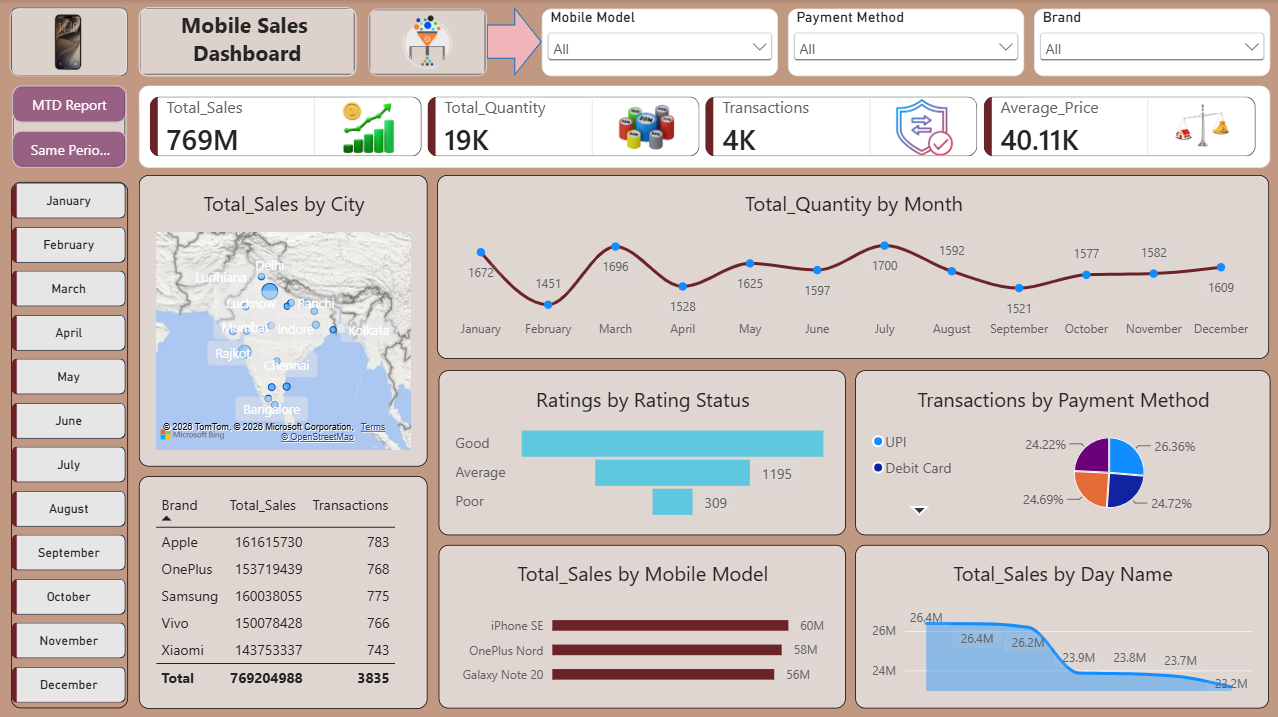

What the dashboard file says about the page in this screenshot:
{"tool":"powerbi","page":{"name":"Dashboard","canvas":[1280,720],"ordinal":0},"visuals":[{"type":"shape","box":[11,8.3,116.9,68.8],"z":0},{"type":"image","box":[9.6,9.6,116.9,67.4],"z":1000},{"type":"shape","box":[12.4,86.6,114.1,82.5],"z":2000},{"type":"cardVisual","fields":{"Data":["Mobile_Sales_Data.Total_Sales","Mobile_Sales_Data.Total_Quantity","Mobile_Sales_Data.Transactions","Mobile_Sales_Data.Average_Price"]},"box":[138.9,86.6,1131.9,82.5],"z":4000},{"type":"slicer","fields":{"Values":["Mobile_Sales_Data.Mobile Model"]},"box":[541.9,9.6,236.5,67.4],"z":5000},{"type":"slicer","fields":{"Values":["Mobile_Sales_Data.Payment Method"]},"box":[788,9.6,236.5,67.4],"z":6000},{"type":"slicer","fields":{"Values":["Mobile_Sales_Data.Brand"]},"box":[1034.2,9.6,236.5,67.4],"z":7000},{"type":"shape","box":[368.6,9.6,118.3,67.4],"z":8000},{"type":"shape","box":[486.8,8.3,55,68.8],"z":9000},{"type":"image","box":[368.6,16.5,118.3,53.6],"z":10000},{"type":"shape","box":[138.9,8.3,217.3,68.8],"z":11000},{"type":"textbox","box":[138.9,9.6,217.3,67.4],"z":12000},{"type":"map","fields":{"Category":["Mobile_Sales_Data.City"],"Size":["Mobile_Sales_Data.Total_Sales"]},"box":[138.9,176,288.8,291.6],"z":13000},{"type":"lineChart","fields":{"Category":["Custom_Calendar.Date.Variation.Date Hierarchy.Month"],"Y":["Mobile_Sales_Data.Total_Quantity"]},"box":[437.3,176,832,184.3],"z":14000},{"type":"funnel","title":"Ratings by Rating Status","fields":{"Category":["Mobile_Sales_Data.Rating Status"],"Y":["CountNonNull(Mobile_Sales_Data.Customer Ratings)"]},"box":[438.7,371.3,407.1,165],"z":15000},{"type":"pieChart","fields":{"Category":["Mobile_Sales_Data.Payment Method"],"Y":["Mobile_Sales_Data.Transactions"]},"box":[855.4,371.3,415.3,165],"z":16000},{"type":"clusteredBarChart","fields":{"Category":["Mobile_Sales_Data.Mobile Model"],"Y":["Mobile_Sales_Data.Total_Sales"]},"box":[438.7,546,407.1,163.7],"z":17000},{"type":"areaChart","fields":{"Category":["Custom_Calendar.Day Name"],"Y":["Mobile_Sales_Data.Total_Sales"]},"box":[855.4,546,414,163.7],"z":18000},{"type":"tableEx","fields":{"Values":["Mobile_Sales_Data.Brand","Mobile_Sales_Data.Total_Sales","Mobile_Sales_Data.Transactions"]},"box":[138.9,477.2,288.8,232.4],"z":19000},{"type":"pageNavigator","box":[12.4,86.6,114.1,82.5],"z":20000},{"type":"advancedSlicerVisual","fields":{"Values":["Custom_Calendar.Date.Variation.Date Hierarchy.Month"]},"box":[11,182.9,116.9,526.7],"z":21000}]}

Visuals, with their boxes in screenshot pixels (x1, y1, x2, y2), scaled from the page's 1280x720 canvas onto the 1278x717 screenshot:
shape: left=11, top=8, right=128, bottom=77
image: left=10, top=10, right=126, bottom=77
shape: left=12, top=86, right=126, bottom=168
cardVisual - Mobile_Sales_Data.Total_Sales x Mobile_Sales_Data.Total_Quantity: left=139, top=86, right=1269, bottom=168
slicer - Mobile_Sales_Data.Mobile Model: left=541, top=10, right=777, bottom=77
slicer - Mobile_Sales_Data.Payment Method: left=787, top=10, right=1023, bottom=77
slicer - Mobile_Sales_Data.Brand: left=1033, top=10, right=1269, bottom=77
shape: left=368, top=10, right=486, bottom=77
shape: left=486, top=8, right=541, bottom=77
image: left=368, top=16, right=486, bottom=70
shape: left=139, top=8, right=356, bottom=77
textbox: left=139, top=10, right=356, bottom=77
map - Mobile_Sales_Data.City x Mobile_Sales_Data.Total_Sales: left=139, top=175, right=427, bottom=466
lineChart - Custom_Calendar.Date.Variation.Date Hierarchy.Month x Mobile_Sales_Data.Total_Quantity: left=437, top=175, right=1267, bottom=359
"Ratings by Rating Status" funnel: left=438, top=370, right=844, bottom=534
pieChart - Mobile_Sales_Data.Payment Method x Mobile_Sales_Data.Transactions: left=854, top=370, right=1269, bottom=534
clusteredBarChart - Mobile_Sales_Data.Mobile Model x Mobile_Sales_Data.Total_Sales: left=438, top=544, right=844, bottom=707
areaChart - Custom_Calendar.Day Name x Mobile_Sales_Data.Total_Sales: left=854, top=544, right=1267, bottom=707
tableEx - Mobile_Sales_Data.Brand x Mobile_Sales_Data.Total_Sales: left=139, top=475, right=427, bottom=707
pageNavigator: left=12, top=86, right=126, bottom=168
advancedSlicerVisual - Custom_Calendar.Date.Variation.Date Hierarchy.Month: left=11, top=182, right=128, bottom=707
